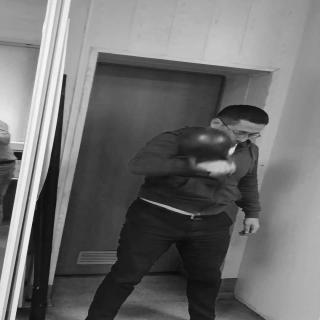kettlebell: (175, 129, 238, 173)
